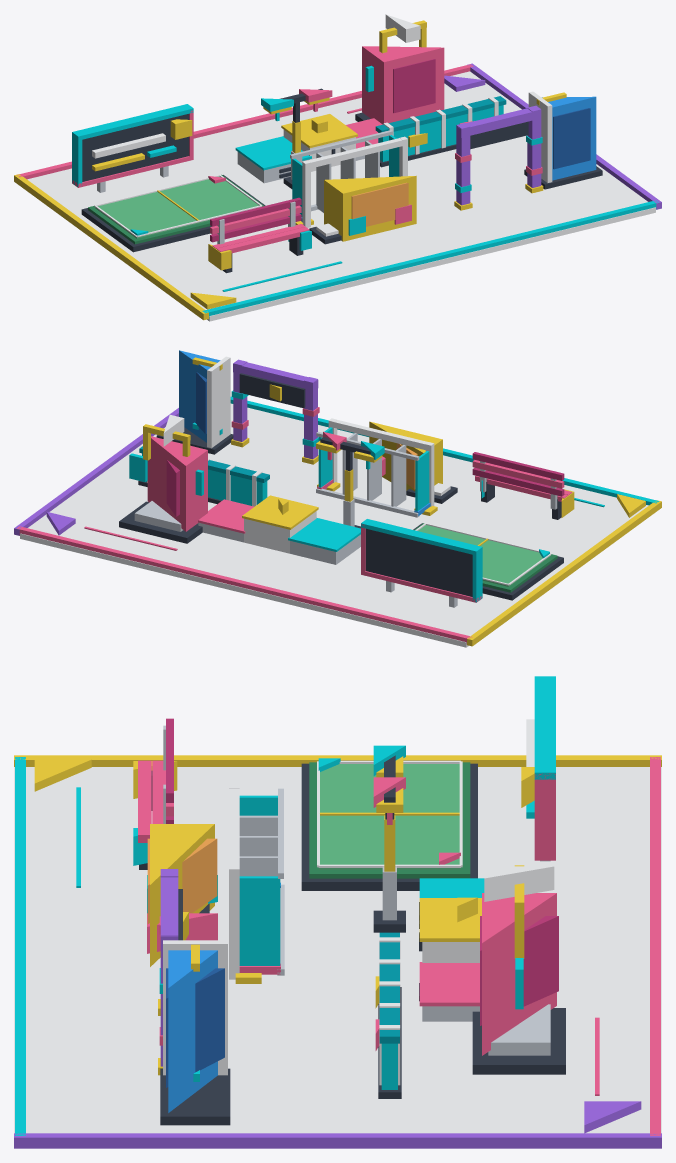
Rendered from Panna_BrightBlock_Kit_AllObjects.fbx.
The picture shows the model from 3 angles, top to bottom: view 1: azimuth 30°, elevation 25°; view 2: azimuth 150°, elevation 25°; view 3: azimuth 270°, elevation 25°; orthographic projection. The views are drawn at different scales.
Visible parts, largest first — view 1: Display_Base_Block, Court_Block, Sign_Block, Trophy_Triangle, Direction_Triangle, ArenaMarker_Triangle, Podium_Block, Goal_Block, Bench_Block, QueueGate_Block, Barrier_Block, Lamp_Block; view 2: Display_Base_Block, Trophy_Triangle, Sign_Block, Podium_Block, Goal_Block, ArenaMarker_Triangle, QueueGate_Block, Court_Block, Bench_Block, Barrier_Block, Direction_Triangle, Lamp_Block; view 3: Display_Base_Block, Court_Block, Trophy_Triangle, ArenaMarker_Triangle, Goal_Block, Podium_Block, Direction_Triangle, Sign_Block, Lamp_Block, Barrier_Block, Bench_Block, QueueGate_Block.
Boxes of the visible parts, x1=… form: Display_Base_Block: x1=14, y1=63, x2=661, y2=321; Court_Block: x1=81, y1=174, x2=265, y2=252; Sign_Block: x1=72, y1=104, x2=193, y2=192; Trophy_Triangle: x1=355, y1=14, x2=444, y2=124; Direction_Triangle: x1=309, y1=175, x2=416, y2=244; ArenaMarker_Triangle: x1=524, y1=91, x2=602, y2=189; Podium_Block: x1=235, y1=114, x2=382, y2=183; Goal_Block: x1=290, y1=130, x2=407, y2=227; Bench_Block: x1=208, y1=197, x2=311, y2=273; QueueGate_Block: x1=454, y1=105, x2=543, y2=210; Barrier_Block: x1=375, y1=96, x2=506, y2=167; Lamp_Block: x1=261, y1=88, x2=332, y2=188; Display_Base_Block: x1=14, y1=396, x2=661, y2=647; Trophy_Triangle: x1=119, y1=414, x2=207, y2=543; Sign_Block: x1=361, y1=519, x2=482, y2=607; Podium_Block: x1=198, y1=495, x2=360, y2=564; Goal_Block: x1=316, y1=418, x2=437, y2=517; ArenaMarker_Triangle: x1=156, y1=350, x2=233, y2=454; QueueGate_Block: x1=231, y1=359, x2=319, y2=464; Court_Block: x1=413, y1=523, x2=563, y2=600; Bench_Block: x1=472, y1=452, x2=574, y2=519; Barrier_Block: x1=138, y1=446, x2=269, y2=506; Direction_Triangle: x1=369, y1=421, x2=457, y2=503; Lamp_Block: x1=316, y1=431, x2=384, y2=528; Display_Base_Block: x1=14, y1=755, x2=661, y2=1148; Court_Block: x1=301, y1=758, x2=477, y2=890; Trophy_Triangle: x1=472, y1=865, x2=565, y2=1074; ArenaMarker_Triangle: x1=160, y1=940, x2=230, y2=1125; Goal_Block: x1=229, y1=783, x2=284, y2=983; Podium_Block: x1=419, y1=878, x2=484, y2=1021; Direction_Triangle: x1=147, y1=824, x2=217, y2=966; Sign_Block: x1=521, y1=676, x2=555, y2=861; Lamp_Block: x1=373, y1=745, x2=405, y2=932; Barrier_Block: x1=375, y1=932, x2=401, y2=1098; Bench_Block: x1=133, y1=718, x2=177, y2=869; QueueGate_Block: x1=158, y1=869, x2=188, y2=1075.
Size of the model in its own units: 3492 by 855 by 2500.
